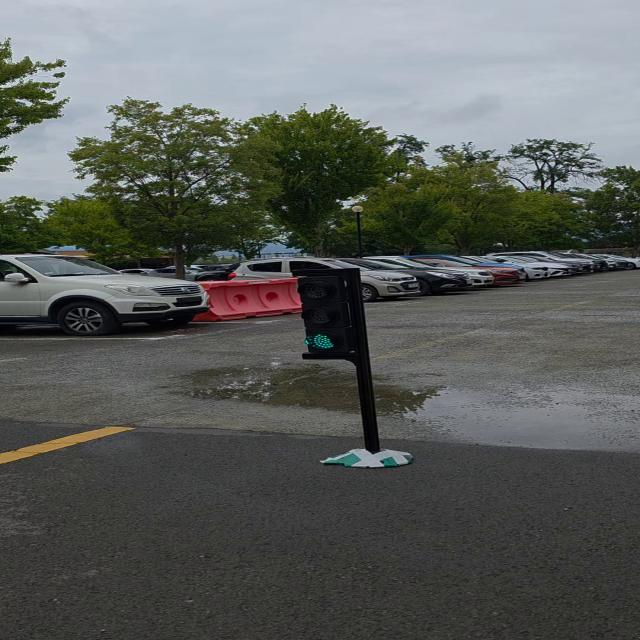green: (300, 271, 368, 360)
